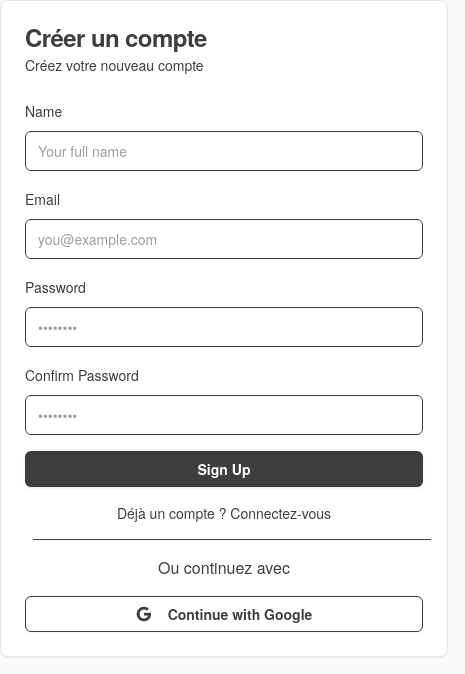
Test: SignUpForm Component › Form Submission › should show loading state during submission
In the field labelled "Name": (224, 151) [25,131,423,171], type "John Doe"
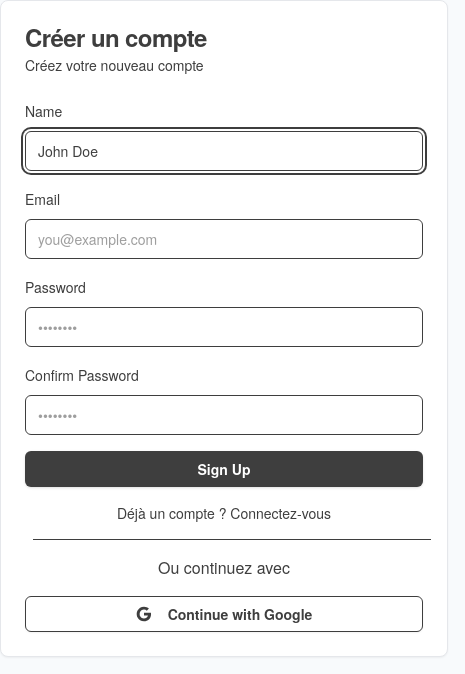
In the field labelled "Email": (224, 239) [25,219,423,259], type "john@example.com"
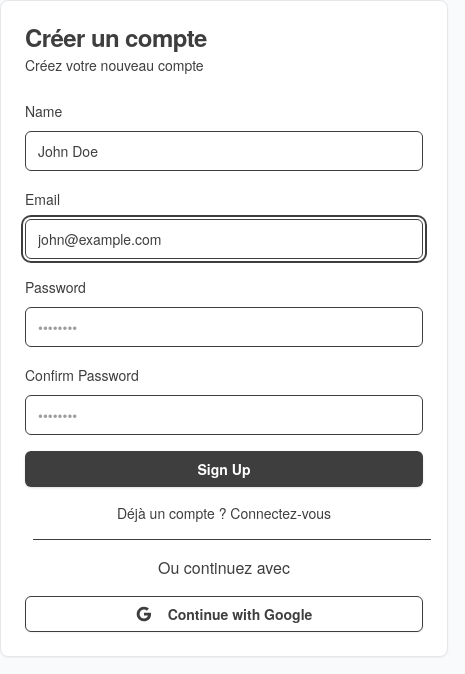
In the password field labelled "Password": (224, 327) [25,307,423,347], type "Password123"
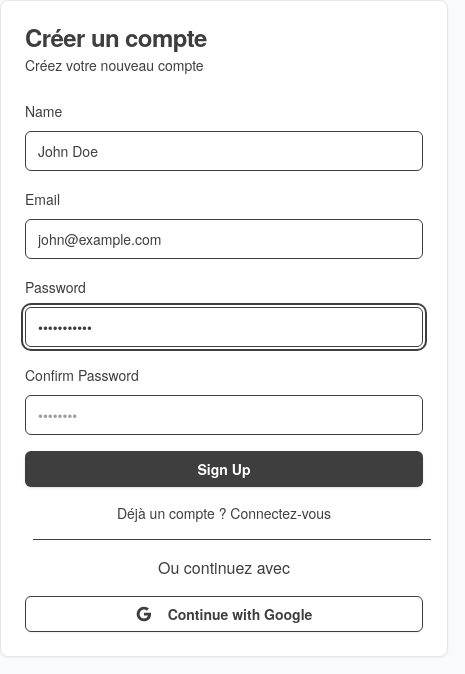
In the password field labelled "Confirm Password": (224, 415) [25,395,423,435], type "Password123"
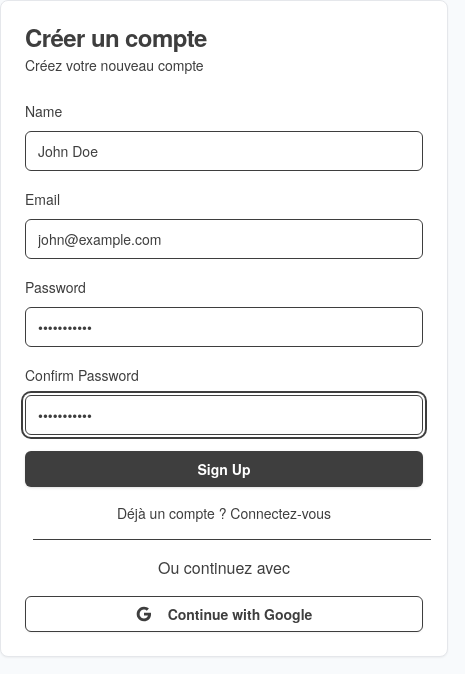
Click the button "Sign Up": (224, 469) [25,451,423,487]
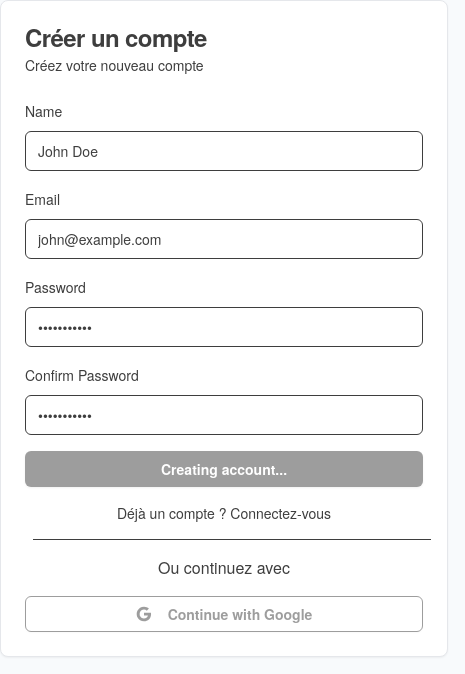
Result: the button "Creating account..." is disabled at [25,451,423,487]
Result: the button "Continue with Google" is disabled at [25,596,423,632]
